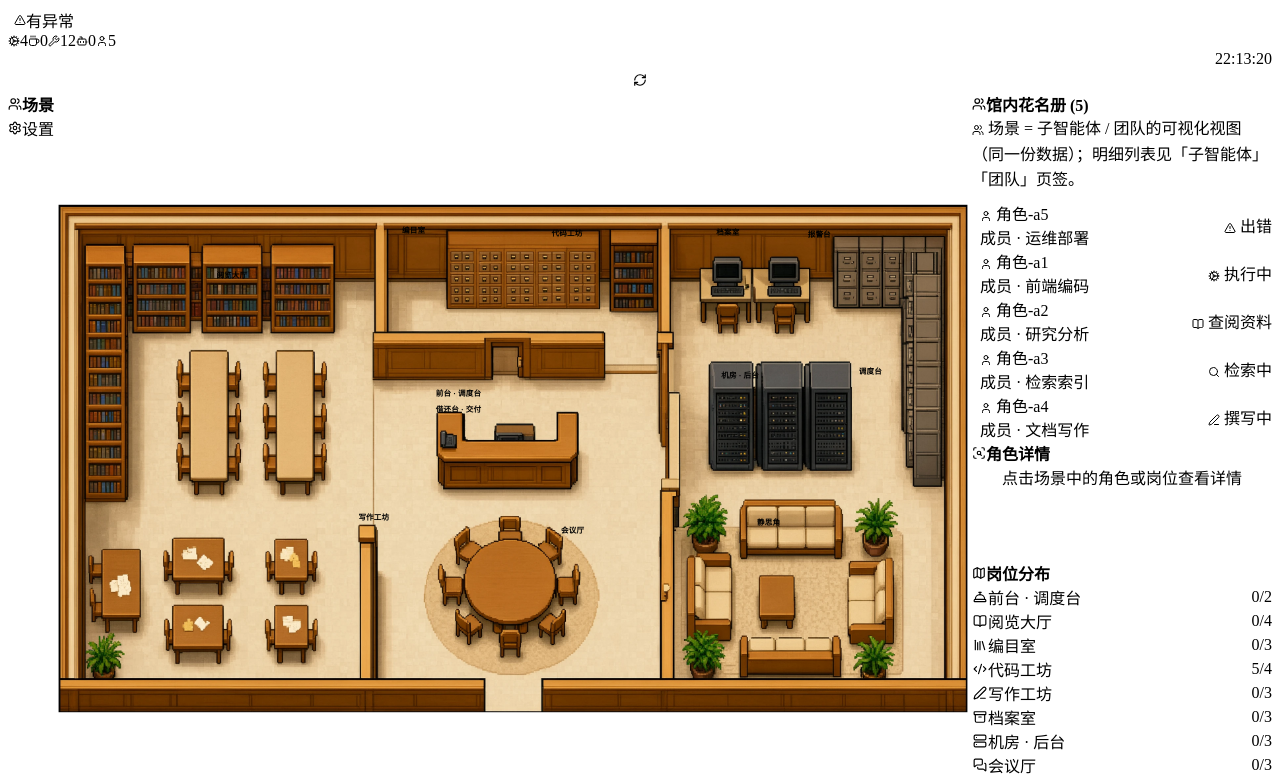
Test case: LO-UI 监控面板 › LO-UI-5: 点击花名册角色 → 详情卡展示该角色信息
Step 1. Click the list item with class "lo-roster__item" showing "角色-a1 成员 · 前端编码 执行中" → (1022, 262), box [972,249,1272,297]
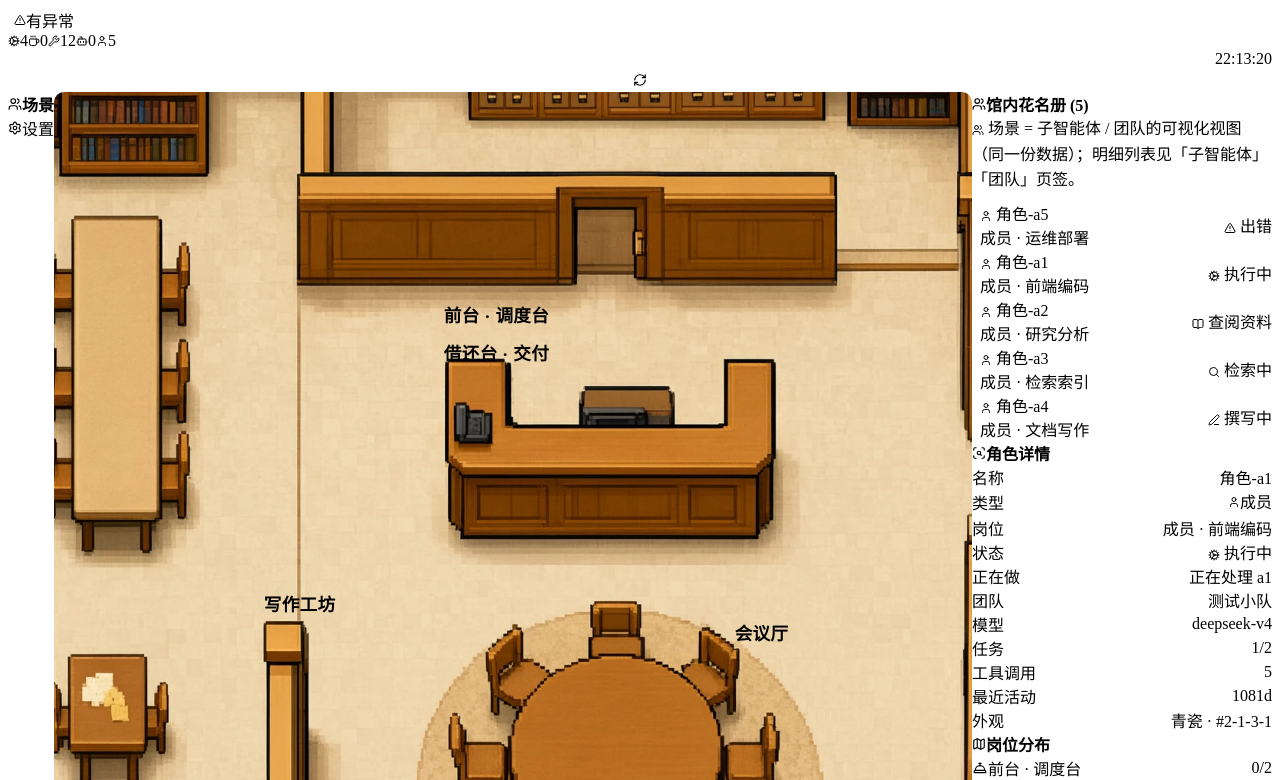
Now the text "正在处理 a1" is shown, box [1189,564,1272,588]
